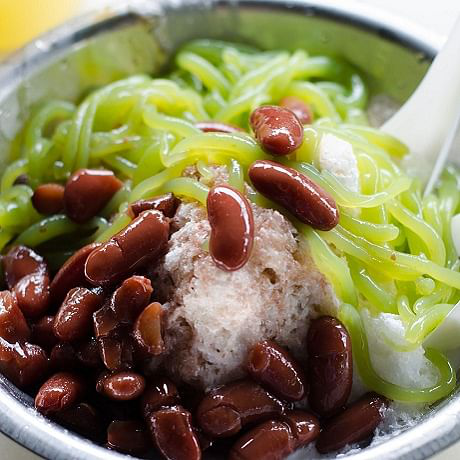Chendol: (12, 30, 458, 438)
